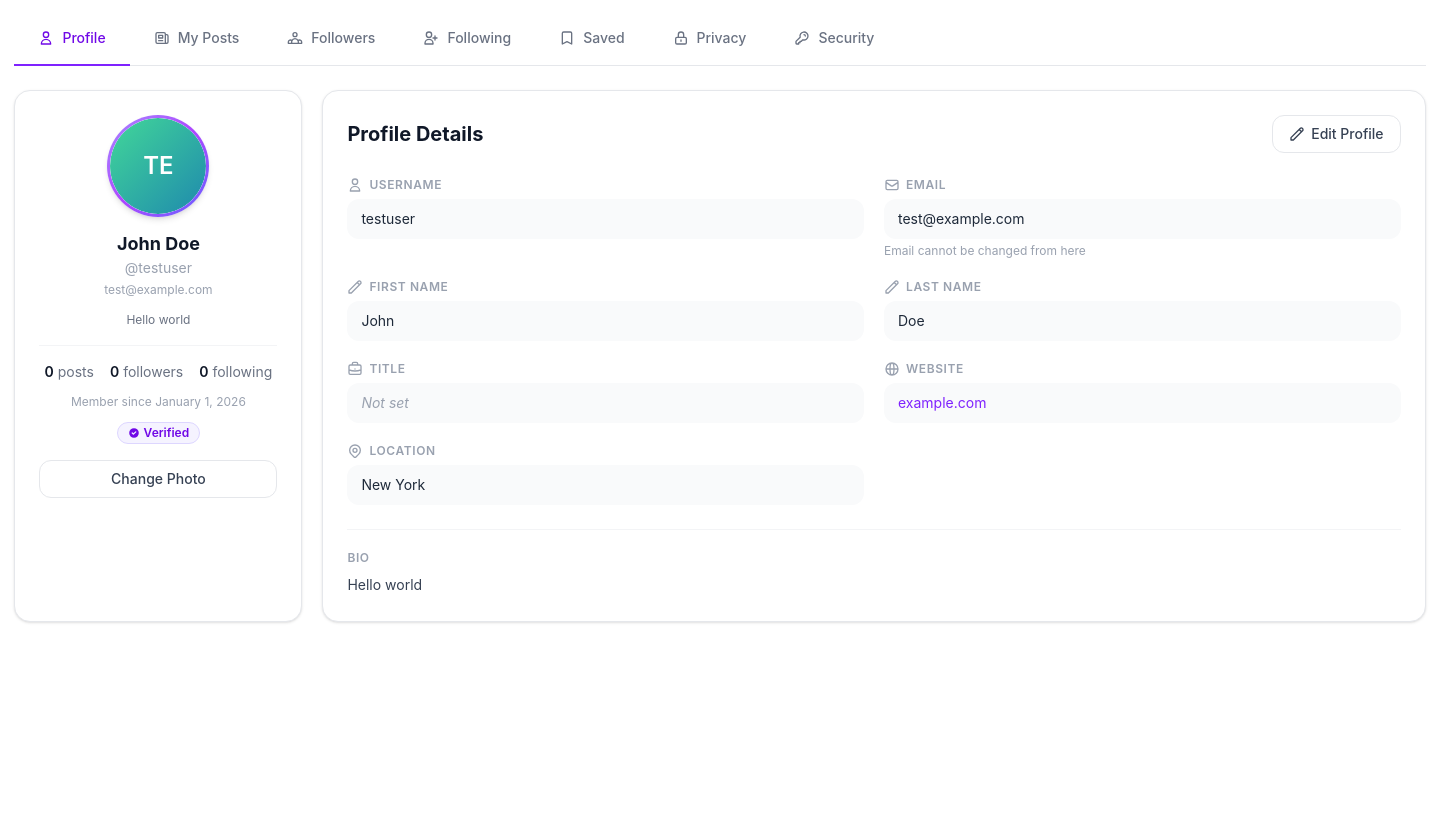
Scenario: ProfilePage — own profile (/profile) › switching to My Posts tab hides profile details
What coordinates should you click on to do the following:
click the button "My Posts"
I would click on:
 (196, 39)
Its box is [130,12,263,66].
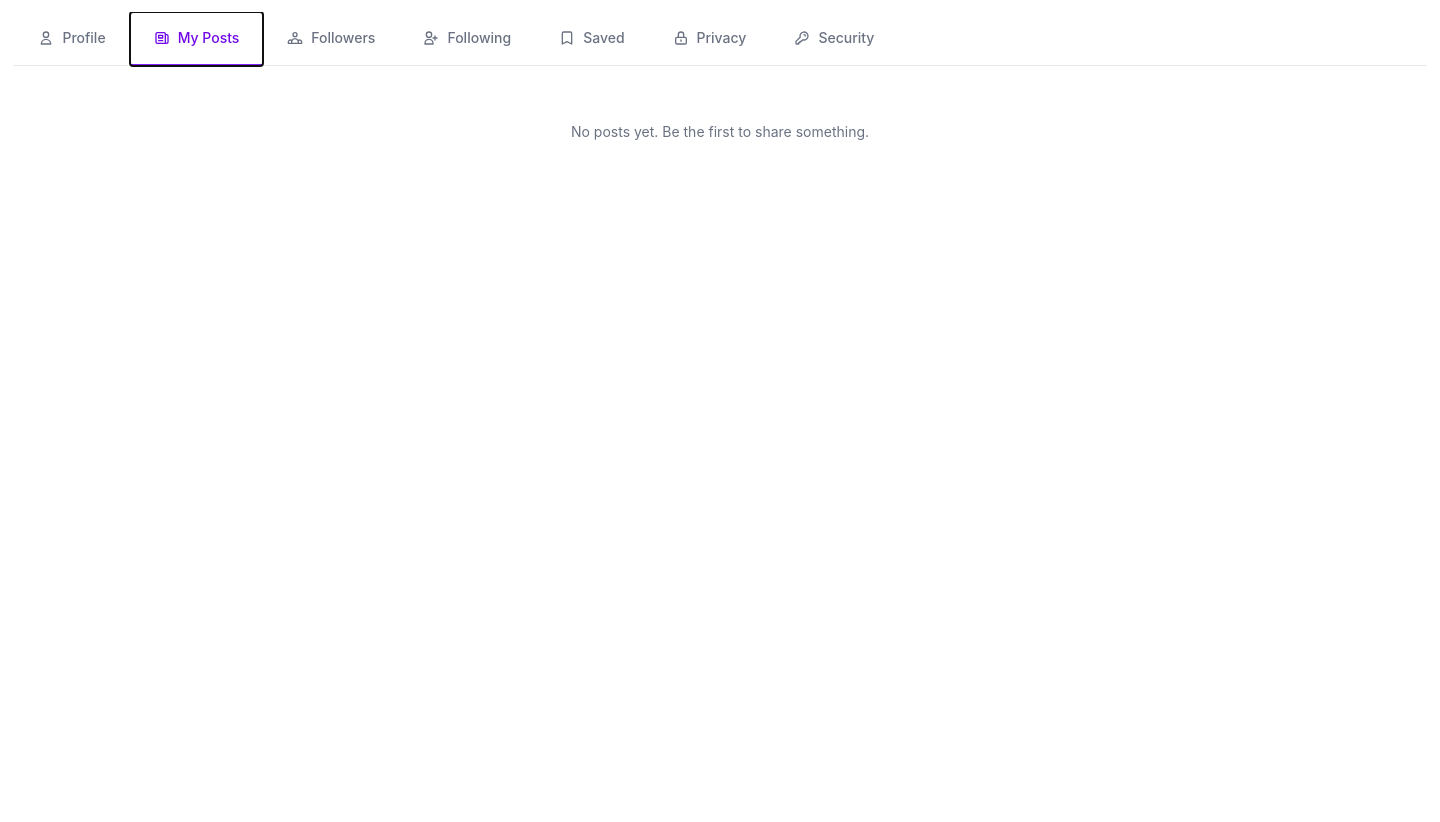
Check: the heading "Profile Details" is gone
